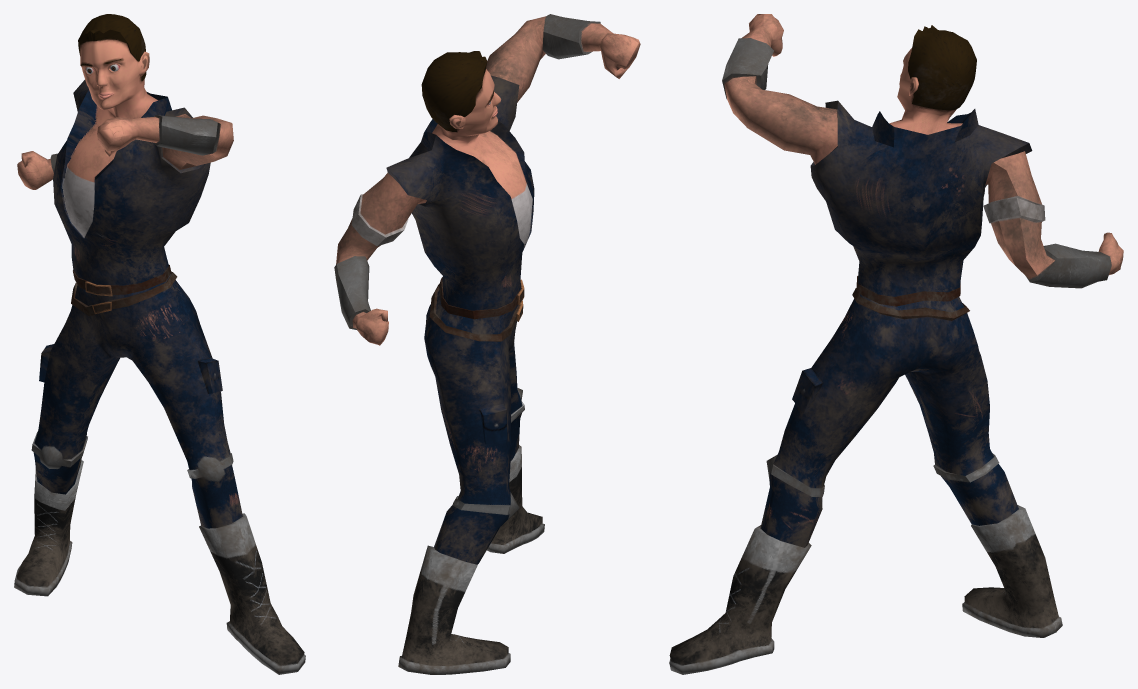
File: Anim_especial_jugador.0022.obj
3 renders of one model, left to right at view 1: azimuth 30°, elevation 25°; view 2: azimuth 150°, elevation 25°; view 3: azimuth 270°, elevation 25°, orthographic. The views are drawn at different scales.
Parts seen in each view (by area): view 1: polySurface1; view 2: polySurface1; view 3: polySurface1.
Part boxes in pixels (<box>): polySurface1: <box>14,14,305,674</box>; polySurface1: <box>334,14,640,674</box>; polySurface1: <box>669,14,1123,674</box>.
Bounding box in the file's own units: 2.92 × 9.34 × 6.34.
